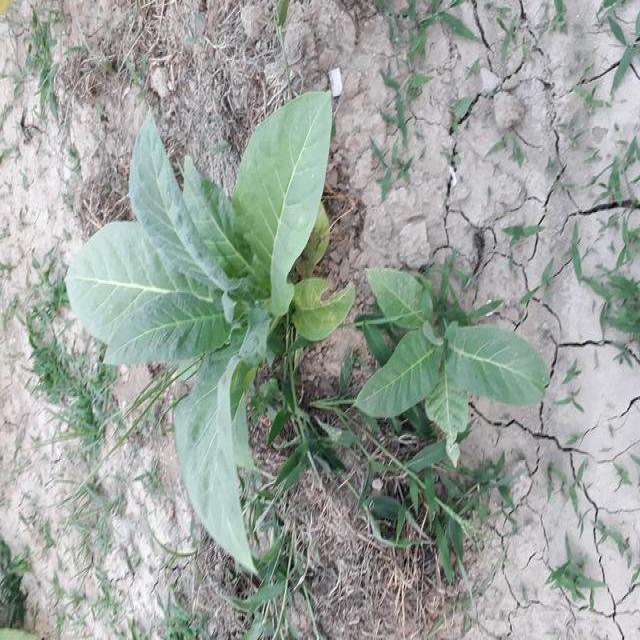crop: (65, 93, 354, 553)
